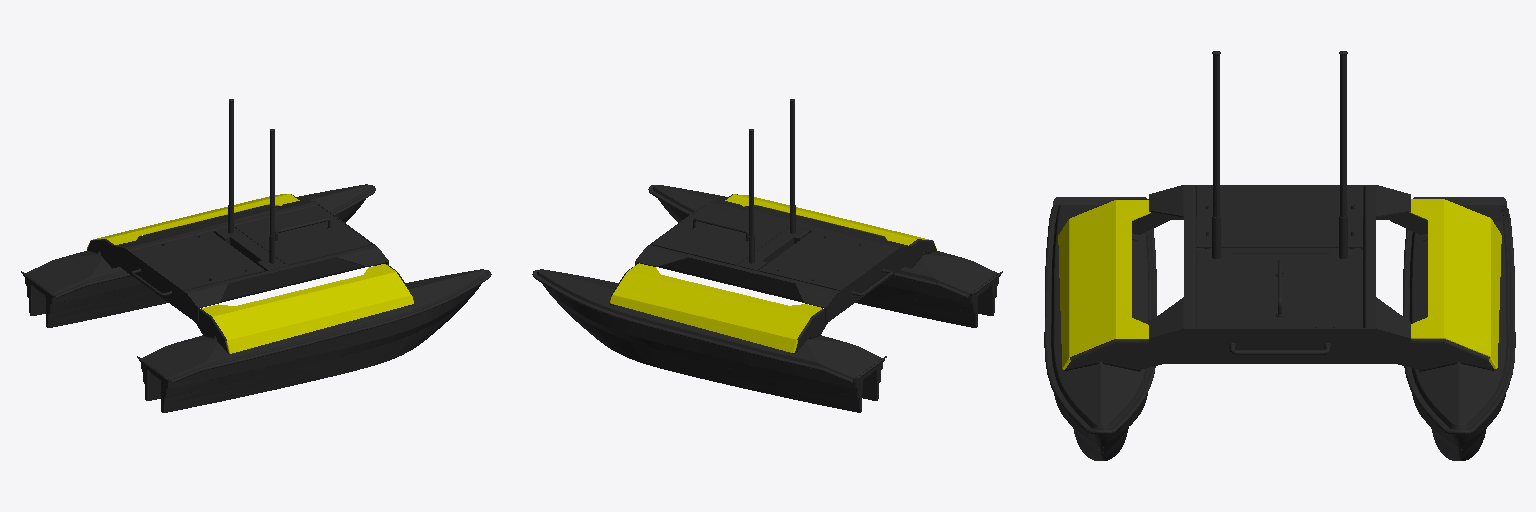
The robot description file, URDF, robot "heron":
<?xml version="1.0" ?>
<!-- =================================================================================== -->
<!-- |    This document was autogenerated by xacro from heron.urdf.xacro               | -->
<!-- |    EDITING THIS FILE BY HAND IS NOT RECOMMENDED                                 | -->
<!-- =================================================================================== -->
<!--
Copyright (c) 2012-2016, Clearpath Robotics
All rights reserved.

Redistribution and use in source and binary forms, with or without
modification, are permitted provided that the following conditions are met:
    * Redistributions of source code must retain the above copyright
      notice, this list of conditions and the following disclaimer.
    * Redistributions in binary form must reproduce the above copyright
      notice, this list of conditions and the following disclaimer in the
      documentation and/or other materials provided with the distribution.
    * Neither the name of Clearpath Robotics nor the
      names of its contributors may be used to endorse or promote products
      derived from this software without specific prior written permission.

THIS SOFTWARE IS PROVIDED BY THE COPYRIGHT [author] "AS IS" AND
ANY EXPRESS OR IMPLIED WARRANTIES, INCLUDING, BUT NOT LIMITED TO, THE IMPLIED
WARRANTIES OF MERCHANTABILITY AND FITNESS FOR A PARTICULAR PURPOSE ARE
DISCLAIMED. IN NO EVENT SHALL THE COPYRIGHT [author] ANY
DIRECT, INDIRECT, INCIDENTAL, SPECIAL, EXEMPLARY, OR CONSEQUENTIAL DAMAGES
(INCLUDING, BUT NOT LIMITED TO, PROCUREMENT OF SUBSTITUTE GOODS OR SERVICES;
LOSS OF USE, DATA, OR PROFITS; OR BUSINESS INTERRUPTION) HOWEVER CAUSED AND
ON ANY THEORY OF LIABILITY, WHETHER IN CONTRACT, STRICT LIABILITY, OR TORT
(INCLUDING NEGLIGENCE OR OTHERWISE) ARISING IN ANY WAY OUT OF THE USE OF THIS
SOFTWARE, EVEN IF ADVISED OF THE POSSIBILITY OF SUCH DAMAGE.

This program contains the description of the robot base model for the Clearpath Heron
-->
<robot name="heron" xmlns:xacro="http://ros.org/wiki/xacro">
  <material name="black">
    <color rgba="0.0 0.0 0.0 1.0"/>
  </material>
  <material name="gray">
    <color rgba="0.7 0.7 0.7 1.0"/>
  </material>
  <material name="dark_gray">
    <color rgba="0.2 0.2 0.2 1.0"/>
  </material>
  <material name="white">
    <color rgba="1.0 1.0 1.0 1.0"/>
  </material>
  <material name="yellow">
    <color rgba="0.8 0.8 0.0 1.0"/>
  </material>
  <link name="base_link">
    <inertial>
      <mass value="29"/>
      <!-- This is the pose of the inertial reference frame, relative to the link reference frame.
               The origin of the inertial reference frame needs to be at the center of gravity.
               The axes of the inertial reference frame do not need to be aligned with the
               principal axes of the inertia. -->
      <origin xyz="0 0 0"/>
      <!-- The 3x3 rotational inertia matrix. Because the rotational inertia matrix is symmetric,
               only 6 above-diagonal elements of this matrix are specified here, using the attributes
              ixx, ixy, ixz, iyy, iyz, izz.-->
      <inertia ixx="10" ixy="0" ixz="0" iyy="10" iyz="0" izz="10"/>
    </inertial>
    <visual>
      <origin rpy="0 0 0" xyz="0 0 0"/>
      <geometry>
        <mesh filename="package://heron_description/meshes/heron_base.stl"/>
      </geometry>
      <material name="dark_gray"/>
    </visual>
    <collision>
      <origin rpy="0 0 0" xyz="0 0 0"/>
      <geometry>
        <box size="0.1 0.1 0.1"/>
        <!--making it slightly bigger in x and z direction-->
      </geometry>
    </collision>
  </link>
  <!-- Side Panels -->
  <joint name="base_left_joint" type="fixed">
    <origin rpy="0 0 0" xyz="0.0 0.34495 0.04959"/>
    <parent link="base_link"/>
    <child link="left_panel_link"/>
  </joint>
  <link name="left_panel_link">
    <inertial>
      <mass value="0.1"/>
      <origin xyz="0.00000000 0.00000000 0.00000000"/>
      <inertia ixx="0.01" ixy="0.00" ixz="0.00" iyy="0.01" iyz="0.00" izz="0.01"/>
    </inertial>
    <visual>
      <origin rpy="0 0 0" xyz="0 0 0"/>
      <geometry>
        <mesh filename="package://heron_description/meshes/left_panel.stl"/>
      </geometry>
      <material name="yellow"/>
    </visual>
    <collision>
      <origin rpy="0 0 0" xyz="0 0 0"/>
      <geometry>
        <!-- The collision boundary for parts are taken into account by collision boundary of the base_link. -->
        <box size="0.001 0.001 0.001"/>
      </geometry>
    </collision>
  </link>
  <joint name="base_right_joint" type="fixed">
    <origin rpy="0 0 0" xyz="0.0 -0.34495 0.04959"/>
    <parent link="base_link"/>
    <child link="right_panel_link"/>
  </joint>
  <link name="right_panel_link">
    <inertial>
      <mass value="0.1"/>
      <origin xyz="0.00000000 0.00000000 0.00000000"/>
      <inertia ixx="0.01" ixy="0.00" ixz="0.00" iyy="0.01" iyz="0.00" izz="0.01"/>
    </inertial>
    <visual>
      <origin rpy="0 0 0" xyz="0 0 0"/>
      <geometry>
        <mesh filename="package://heron_description/meshes/right_panel.stl"/>
      </geometry>
      <material name="yellow"/>
    </visual>
    <collision>
      <origin rpy="0 0 0" xyz="0 0 0"/>
      <geometry>
        <!-- The collision boundary for parts are taken into account by collision boundary of the base_link. -->
        <box size="0.001 0.001 0.001"/>
      </geometry>
    </collision>
  </link>
  <link name="imu_link">
    <inertial>
      <mass value="0.001"/>
      <origin rpy="0 0 0" xyz="0 0 0"/>
      <inertia ixx="1e-09" ixy="0.0" ixz="0.0" iyy="1e-09" iyz="0.0" izz="1e-09"/>
    </inertial>
  </link>
  <joint name="imu_joint" type="fixed">
    <parent link="base_link"/>
    <child link="imu_link"/>
    <origin rpy="0.0 3.14159 1.5708" xyz="0.015 0.0 0.072"/>
  </joint>
  <link name="navsat_link"/>
  <joint name="navsat_joint" type="fixed">
    <parent link="base_link"/>
    <child link="navsat_link"/>
    <origin rpy="0.0 0.0 0.0" xyz="0.015 -0.050 0.072"/>
  </joint>
  <!-- Bring in simulation data for Gazebo. -->
  <gazebo>
    <plugin filename="libgazebo_ros_planar_move.so" name="object_controller">
      <commandTopic>cmd_vel</commandTopic>
      <odometryTopic>odom</odometryTopic>
      <odometryFrame>odom</odometryFrame>
      <odometryRate>20.0</odometryRate>
      <robotBaseFrame>base_link</robotBaseFrame>
    </plugin>
  </gazebo>
  <gazebo>
    <plugin filename="libhector_gazebo_ros_imu.so" name="imu_controller">
      <robotNamespace>/</robotNamespace>
      <updateRate>50.0</updateRate>
      <bodyName>imu_link</bodyName>
      <topicName>imu/data</topicName>
      <accelDrift>0.005 0.005 0.005</accelDrift>
      <accelGaussianNoise>0.005 0.005 0.005</accelGaussianNoise>
      <rateDrift>0.005 0.005 0.005 </rateDrift>
      <rateGaussianNoise>0.005 0.005 0.005 </rateGaussianNoise>
      <headingDrift>0.005</headingDrift>
      <headingGaussianNoise>0.005</headingGaussianNoise>
    </plugin>
  </gazebo>
  <gazebo>
    <plugin filename="libhector_gazebo_ros_gps.so" name="gps_controller">
      <alwaysOn>true</alwaysOn>
      <updateRate>10.0</updateRate>
      <bodyName>navsat_link</bodyName>
      <frameId>base_link</frameId>
      <topicName>navsat/fix</topicName>
      <velocityTopicName>navsat/vel</velocityTopicName>
      <referenceLatitude>49.9</referenceLatitude>
      <referenceLongitude>8.9</referenceLongitude>
      <referenceHeading>0</referenceHeading>
      <referenceAltitude>0</referenceAltitude>
      <drift>5.0 5.0 5.0</drift>
      <gaussianNoise>0.1 0.1 0.1</gaussianNoise>
      <velocityDrift>0 0 0</velocityDrift>
      <velocityGaussianNoise>0.1 0.1 0.1</velocityGaussianNoise>
    </plugin>
  </gazebo>
  <gazebo reference="base_link">
    <material>Gazebo/DarkGrey</material>
    <turnGravityOff>false</turnGravityOff>
  </gazebo>
  <gazebo reference="imu_link">
    <turnGravityOff>false</turnGravityOff>
  </gazebo>
  <gazebo reference="navsat_link">
    <turnGravityOff>false</turnGravityOff>
  </gazebo>
  <gazebo reference="left_panel_link">
    <material>Gazebo/Yellow</material>
  </gazebo>
  <gazebo reference="right_panel_link">
    <material>Gazebo/Yellow</material>
  </gazebo>
  <!-- Optional standard accessories, including their simulation data. The rendering
         of these into the final description is controlled by optenv variables, which
         default each one to off.-->
  <link name="rear_plate">
    <visual>
      <origin rpy="0 0 0" xyz="0 0 0"/>
      <geometry>
        <mesh filename="package://heron_description/meshes/plain-rear-plate.stl"/>
      </geometry>
      <material name="dark_gray"/>
    </visual>
  </link>
  <joint name="rear_plate_joint" type="fixed">
    <parent link="base_link"/>
    <child link="rear_plate"/>
    <origin xyz="-0.1915 0.0 0.001"/>
  </joint>
  <!-- Optional custom includes. -->
</robot>

--- What the picture shows (computed from the rendered views, not written in the file) ---
The picture shows the robot from 3 angles, left to right: view 1: azimuth 30°, elevation 25°; view 2: azimuth 150°, elevation 25°; view 3: azimuth 270°, elevation 25°; orthographic projection.
Model heron with 6 links and 5 joints (5 fixed), rooted at base_link, posed all joints at 0.
Visible links, largest first — view 1: base_link, right_panel_link, rear_plate, left_panel_link; view 2: base_link, left_panel_link, rear_plate, right_panel_link; view 3: base_link, left_panel_link, right_panel_link, rear_plate.
Boxes of the visible links, x1,y1,x2,y2 form: base_link: (21,99,491,412); right_panel_link: (202,264,413,353); rear_plate: (131,231,264,290); left_panel_link: (87,194,299,248); base_link: (532,99,1002,412); left_panel_link: (610,263,821,352); rear_plate: (759,231,892,290); right_panel_link: (725,194,936,248); base_link: (1044,51,1515,460); left_panel_link: (1409,199,1501,368); right_panel_link: (1058,200,1150,369); rear_plate: (1197,186,1362,252).
Size in the robot's own frame: 1.28 by 0.9917 by 0.7761 metres.
4 mesh visuals loaded from 4 distinct referenced files (4 binary STL).